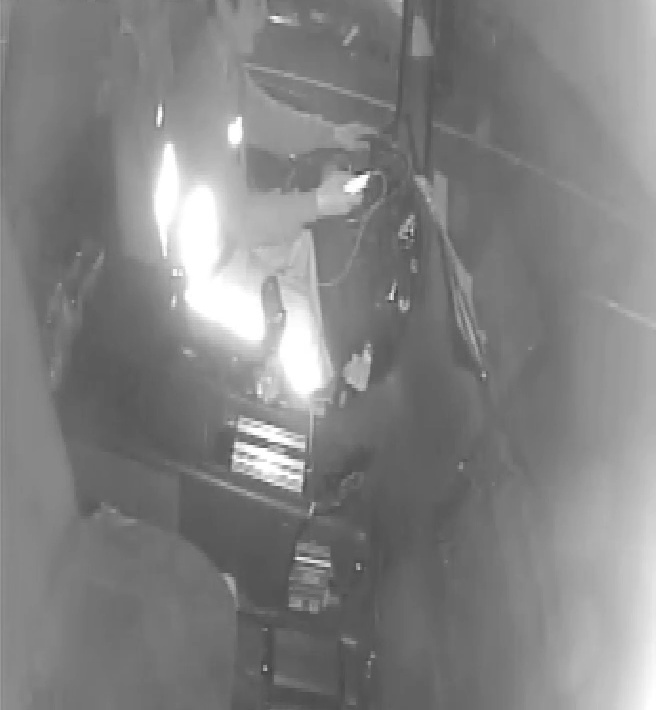cellphone: (328, 168, 372, 197)
